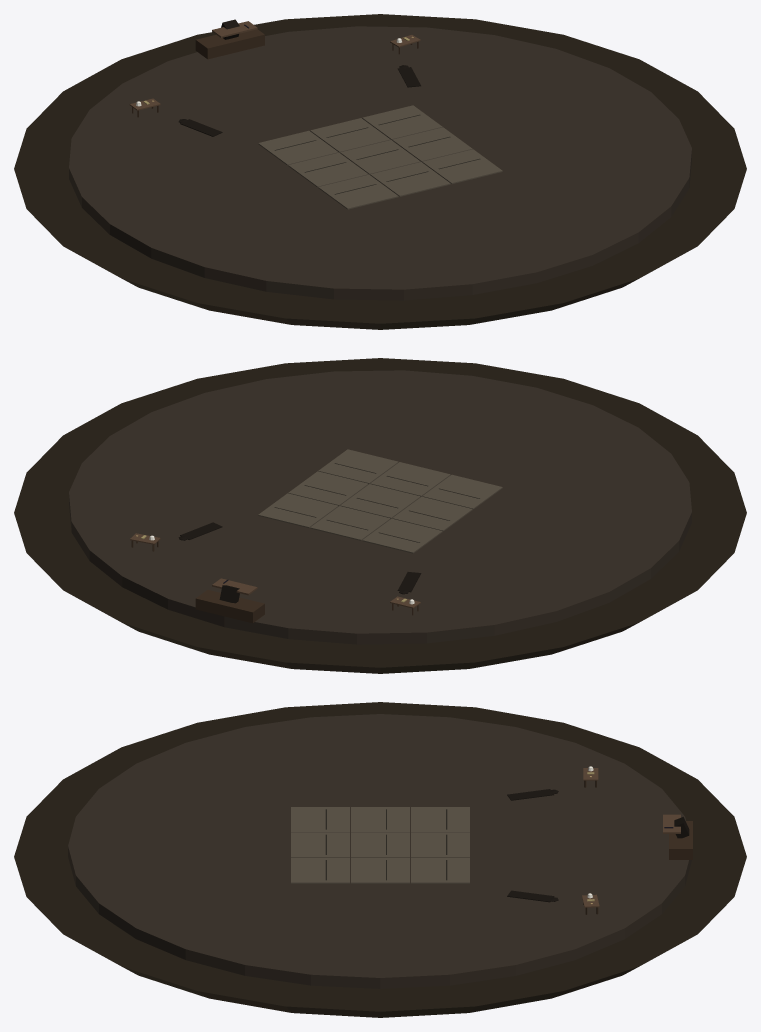
Rendered from s3_arena_b29.glb.
3 views of the same model, one above another, from view 1: azimuth 30°, elevation 25°; view 2: azimuth 150°, elevation 25°; view 3: azimuth 270°, elevation 25° (orthographic).
Parts seen in each view (by area): view 1: s3_arena_b29; view 2: s3_arena_b29; view 3: s3_arena_b29.
Part boxes in pixels (x1,y1,x2,y2): s3_arena_b29: (14, 14, 746, 329); s3_arena_b29: (14, 358, 746, 673); s3_arena_b29: (14, 702, 746, 1017).
Size of the model in its own units: 24.4 by 1.96 by 24.4.
